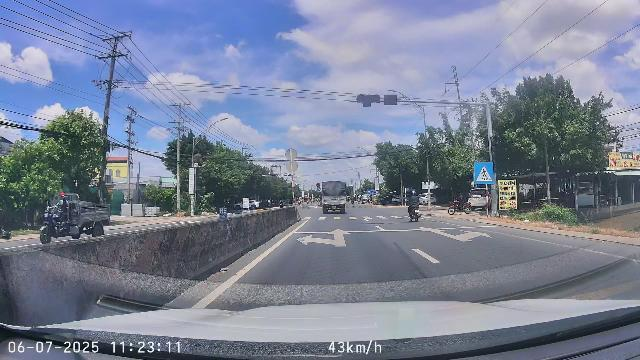423a-duong-nguoi-di-bo-sang-ngang-1: (474, 162, 493, 184)
